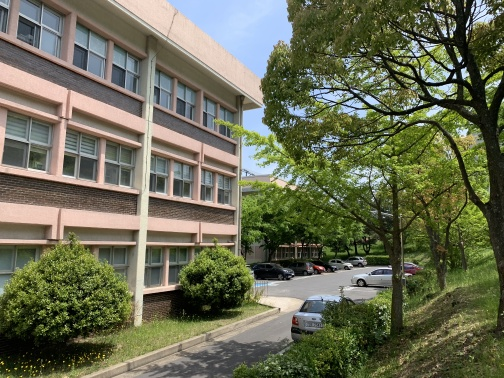College Of Education: (5, 3, 250, 350)
